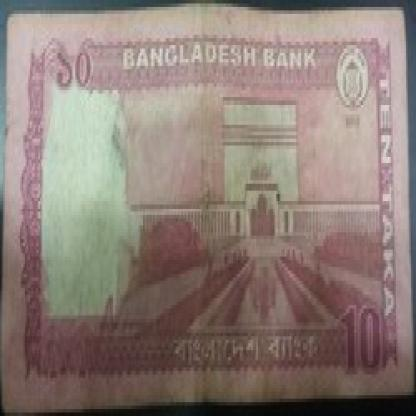Ten Taka: (338, 278, 384, 382), (50, 31, 106, 114)
